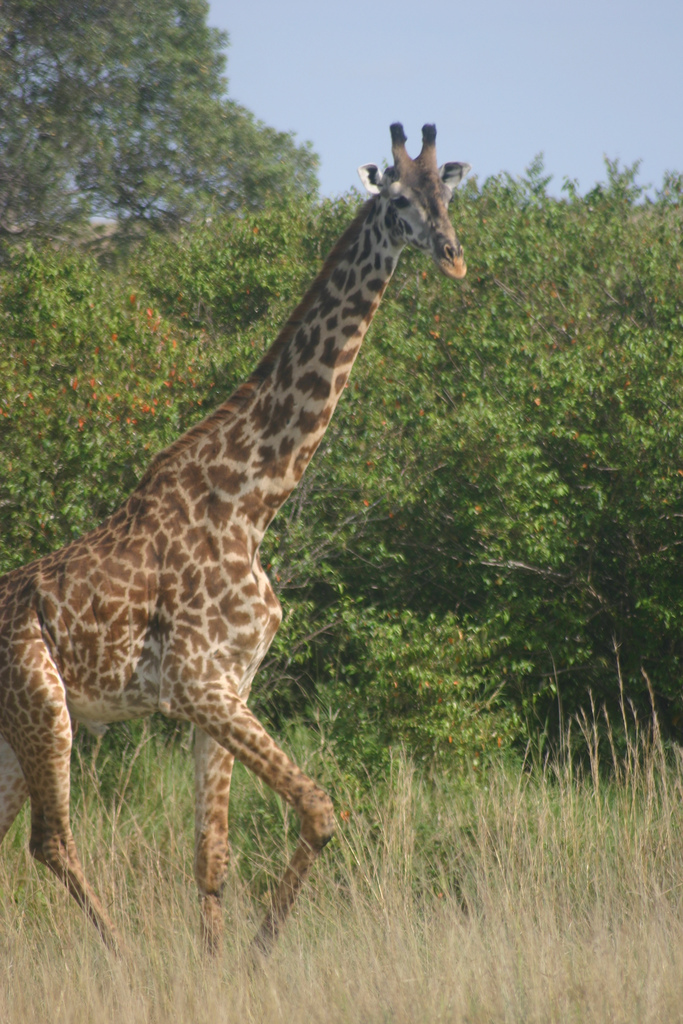giraffe: (14, 114, 484, 919)
